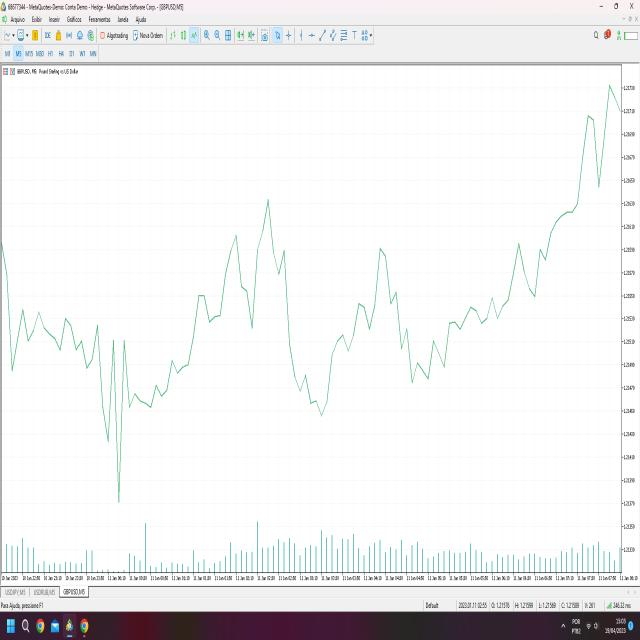oco: (327, 216, 420, 417), (218, 190, 300, 376)
